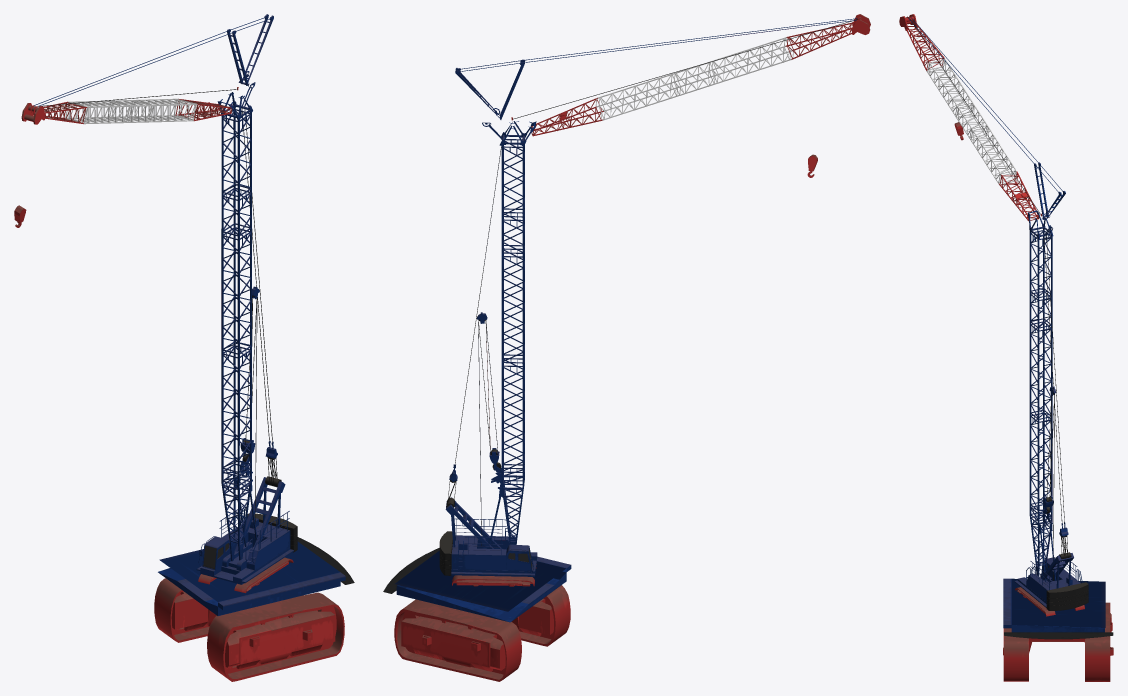
File: crane.fbx
3 views of the same model, side by side, from view 1: azimuth 30°, elevation 25°; view 2: azimuth 150°, elevation 25°; view 3: azimuth 270°, elevation 25° (orthographic). The views are drawn at different scales.
Visible parts, largest first — view 1: base, fenc, angle; view 2: base, fenc, angle; view 3: fenc, base, angle.
Part boxes in pixels (box(x1,y1,x2,y2)): base: box(154, 537, 354, 681); fenc: box(196, 82, 297, 593); angle: box(21, 14, 273, 124); base: box(383, 548, 571, 681); fenc: box(439, 121, 537, 586); angle: box(455, 14, 870, 136); fenc: box(1014, 210, 1088, 616); base: box(1003, 578, 1113, 681); angle: box(899, 14, 1065, 221).
Bounding box in the file's own units: 3217 × 5222 × 1914.
Materials: 1 (1 with a texture image).
